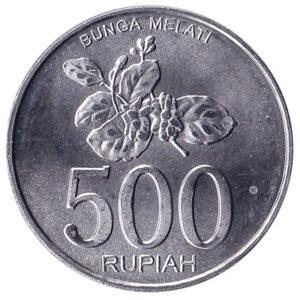coin_500_e2003: (5, 3, 294, 293)
